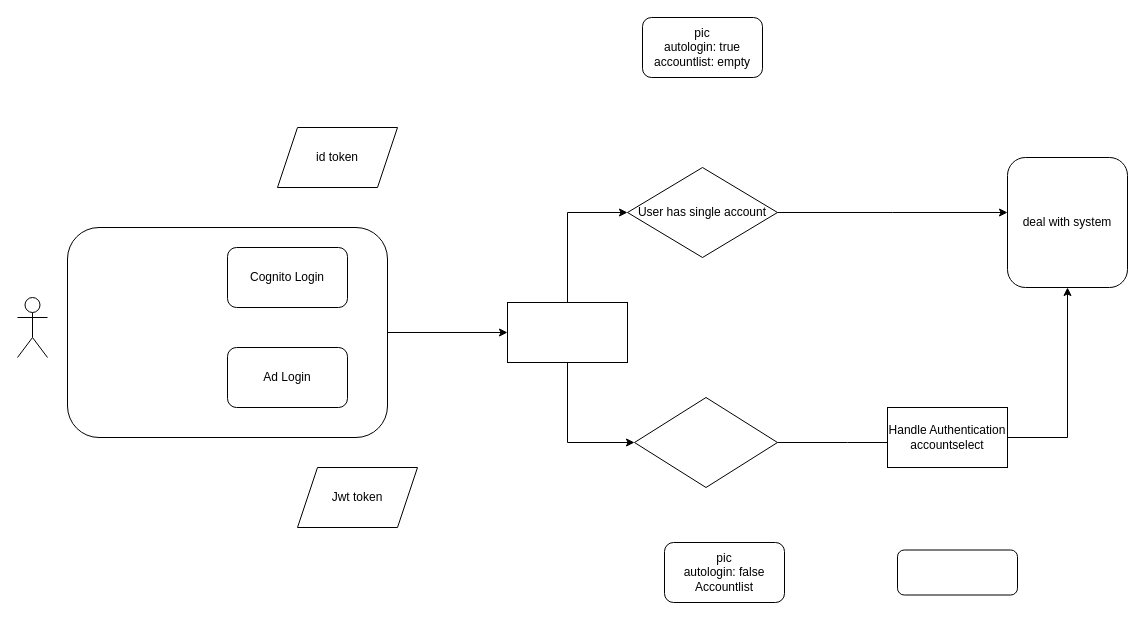
Some shapes in this 1145 by 620 pixel diagram are drawn without their labels. Each missing label, with the centre of its shape:
Actor: pixel 32 327
autologin: true: pixel 957 572
HandleAuthentication: pixel 567 332
User has multiple account: pixel 706 442
